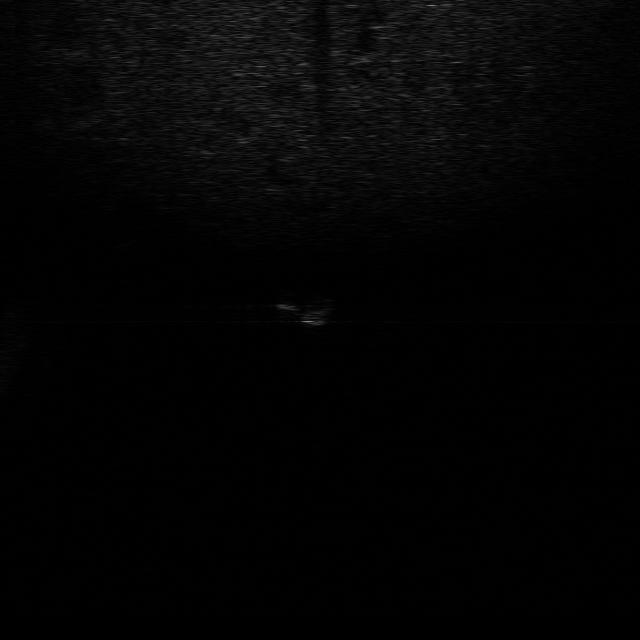human body: (268, 297, 338, 330)
